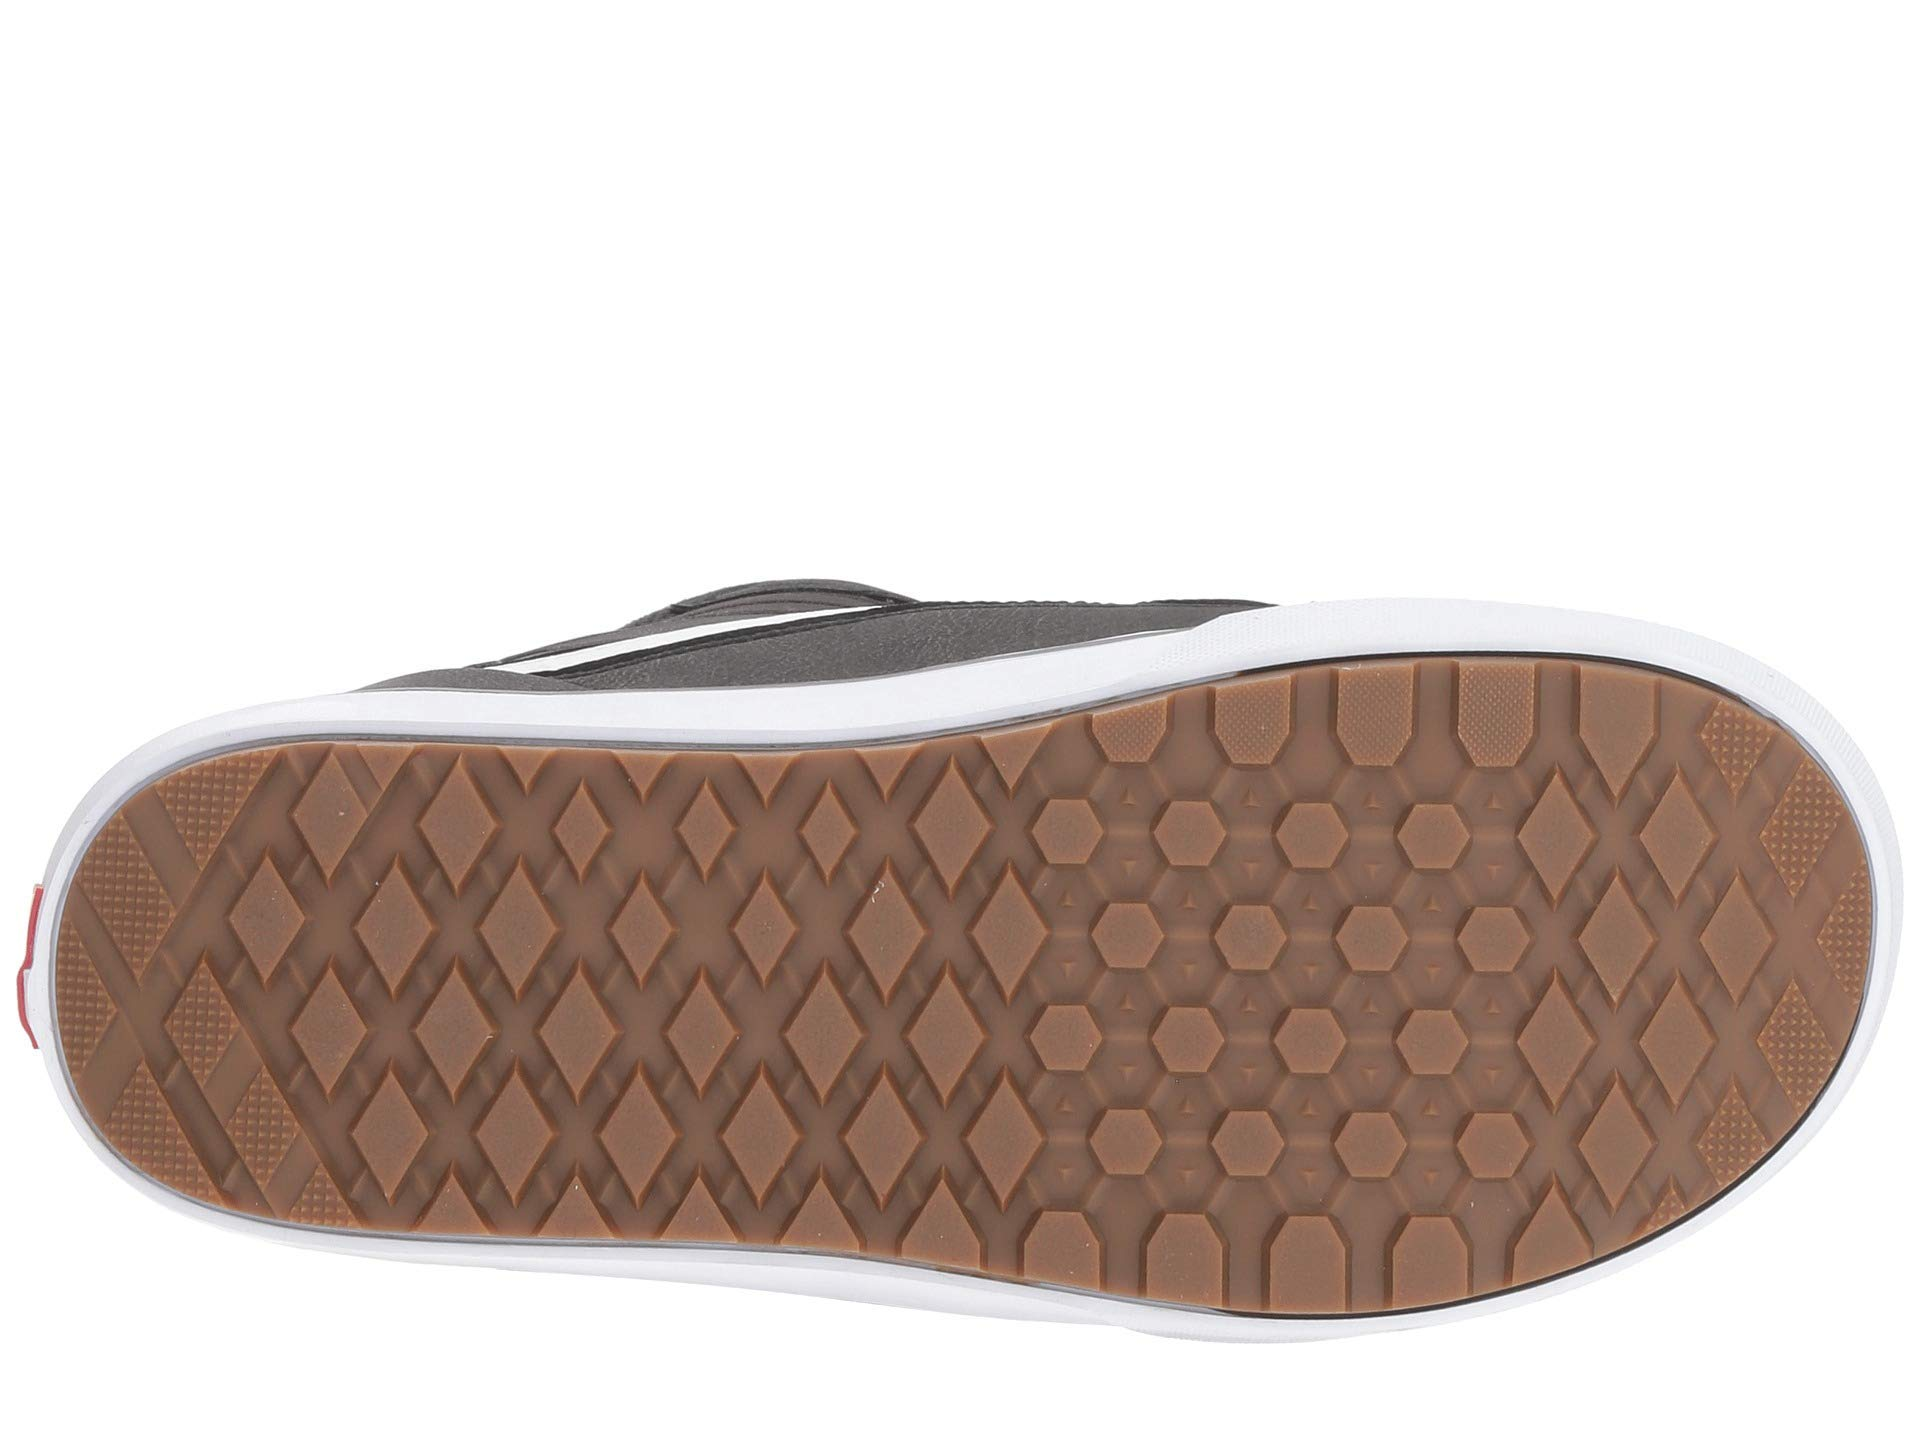circle: (1138, 768, 1519, 1184), (97, 836, 260, 1144)
line: (97, 836, 260, 1144)
polygon: (1138, 768, 1519, 1184), (1562, 653, 1672, 806)
quad: (547, 771, 968, 1171), (97, 836, 260, 1144)
triangle: (1138, 768, 1519, 1184), (395, 1171, 630, 1248)
